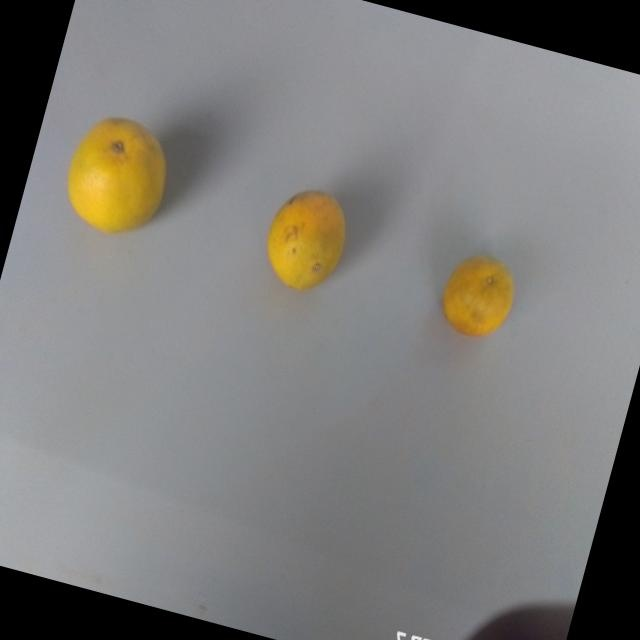agrume: (49, 105, 184, 257), (253, 177, 364, 311), (420, 238, 525, 354)
